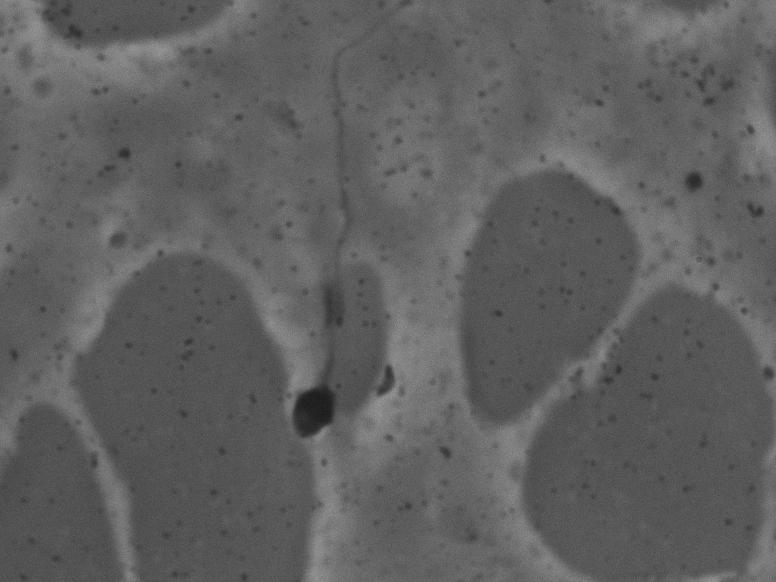Normal: (286, 10, 411, 452)
